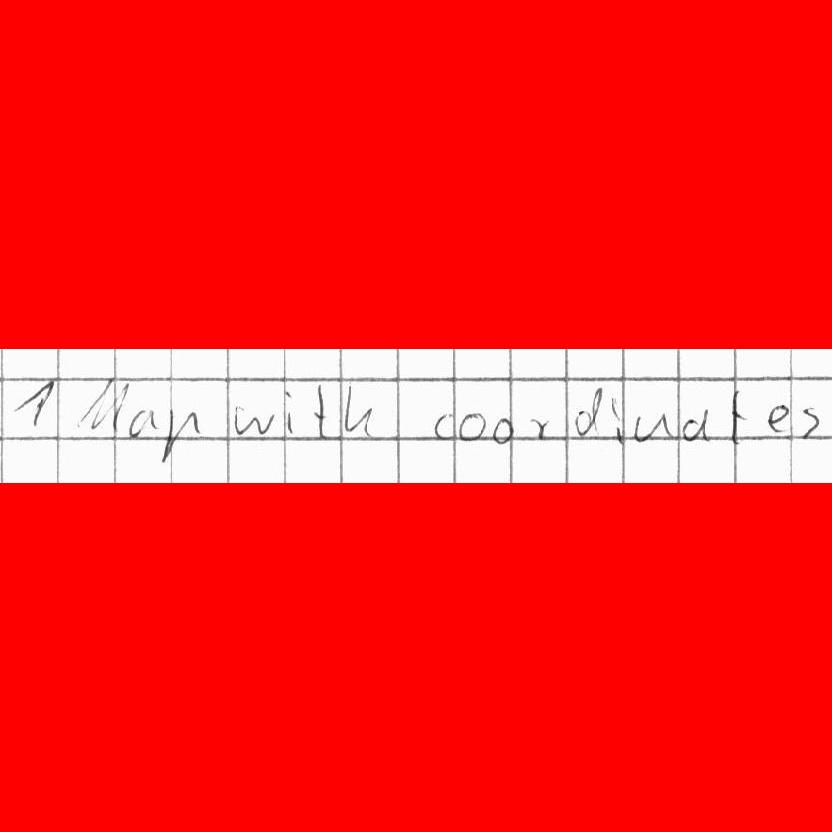Char: (84, 372, 134, 428), (11, 377, 59, 434), (165, 406, 208, 464), (341, 380, 377, 440), (571, 385, 604, 436), (231, 401, 278, 436), (118, 405, 162, 441), (728, 387, 754, 445), (632, 411, 678, 443), (680, 404, 715, 443), (314, 380, 333, 442), (489, 415, 519, 450), (609, 393, 628, 446), (796, 400, 820, 441), (457, 411, 488, 441), (765, 401, 791, 434), (281, 387, 297, 435), (434, 409, 456, 443), (531, 414, 556, 440)
